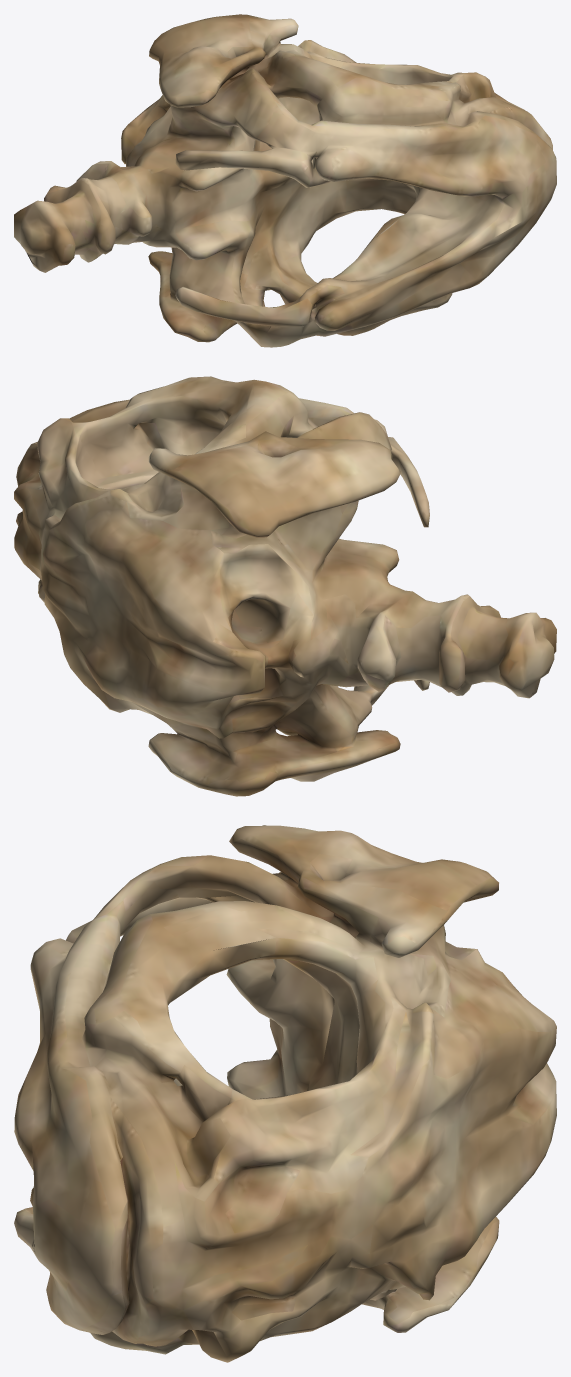
Rendered from bone_skull_m.glb.
3 views of the same model, one above another, from view 1: azimuth 30°, elevation 25°; view 2: azimuth 150°, elevation 25°; view 3: azimuth 270°, elevation 25° (orthographic). The views are drawn at different scales.
Parts seen in each view (by area): view 1: bone_skull_m; view 2: bone_skull_m; view 3: bone_skull_m.
Boxes of the visible parts, box(x1,y1,x2,y2) form: bone_skull_m: box(14, 14, 556, 347); bone_skull_m: box(14, 376, 556, 796); bone_skull_m: box(14, 825, 556, 1362).
Bounding box in the file's own units: 0.3 × 0.1638 × 0.1868.
Materials: 1 (1 with a texture image).
